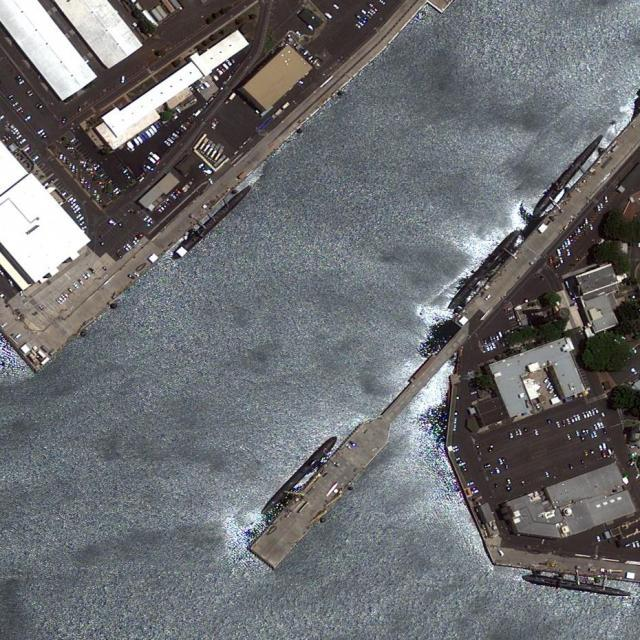Dock: (251, 328, 467, 567)
Submarine: (169, 183, 253, 262), (530, 131, 606, 218), (258, 434, 339, 515), (444, 227, 522, 311), (520, 572, 630, 598)
